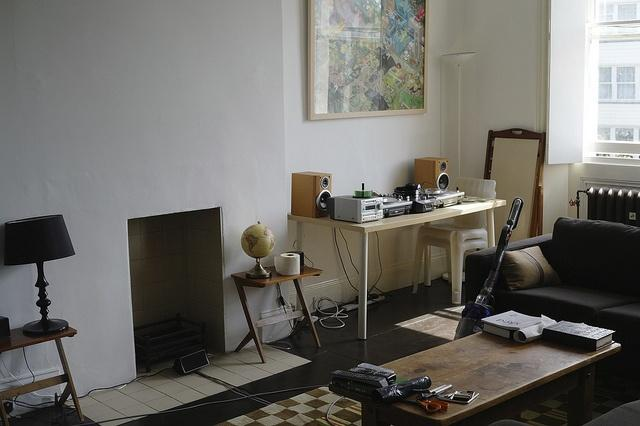Meja: (326, 318, 621, 424), (286, 194, 505, 243)
